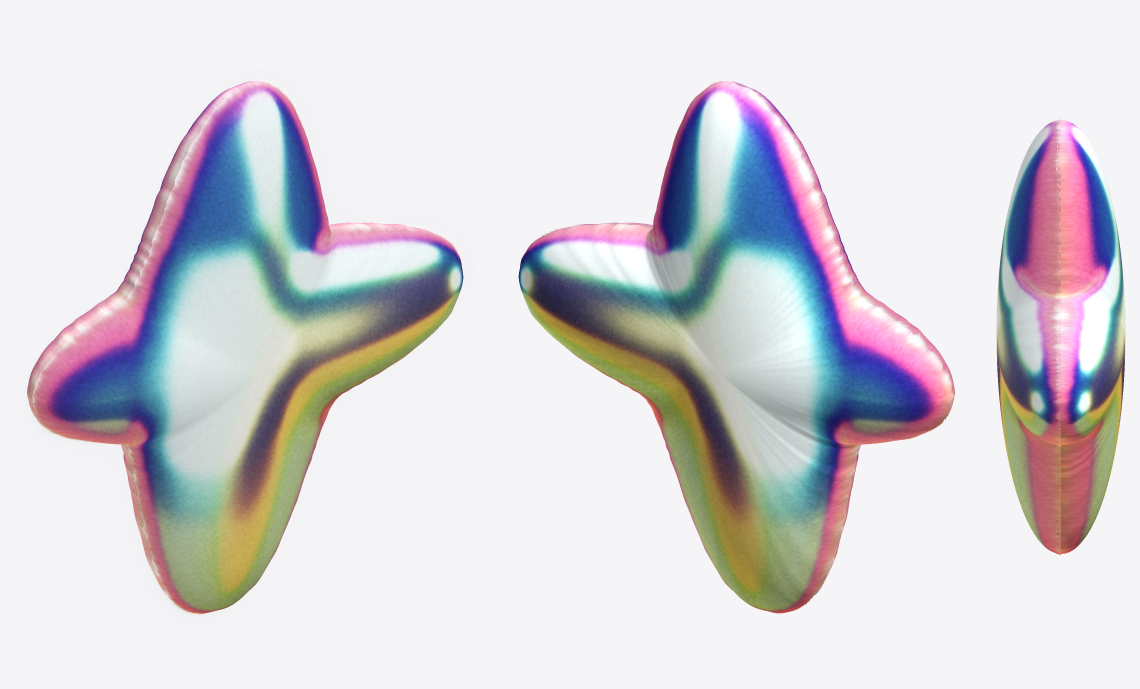
Rendered from homepage-star.glb.
3 renders of one model, left to right at view 1: azimuth 30°, elevation 25°; view 2: azimuth 150°, elevation 25°; view 3: azimuth 270°, elevation 25°, orthographic. The views are drawn at different scales.
Visible parts, largest first — view 1: original-artwork-front, rounded-iridescent-star-back; view 2: rounded-iridescent-star-back, original-artwork-front; view 3: rounded-iridescent-star-back, original-artwork-front.
Part boxes in pixels (left/top/right/bottom): original-artwork-front: left=29, top=77, right=463, bottom=614; rounded-iridescent-star-back: left=27, top=81, right=437, bottom=606; rounded-iridescent-star-back: left=518, top=81, right=953, bottom=613; original-artwork-front: left=535, top=81, right=954, bottom=605; rounded-iridescent-star-back: left=1055, top=120, right=1125, bottom=553; original-artwork-front: left=996, top=118, right=1060, bottom=555.
Size of the model in its own units: 0.8841 by 1 by 0.25.
Materials: 2 (2 with a texture image).
